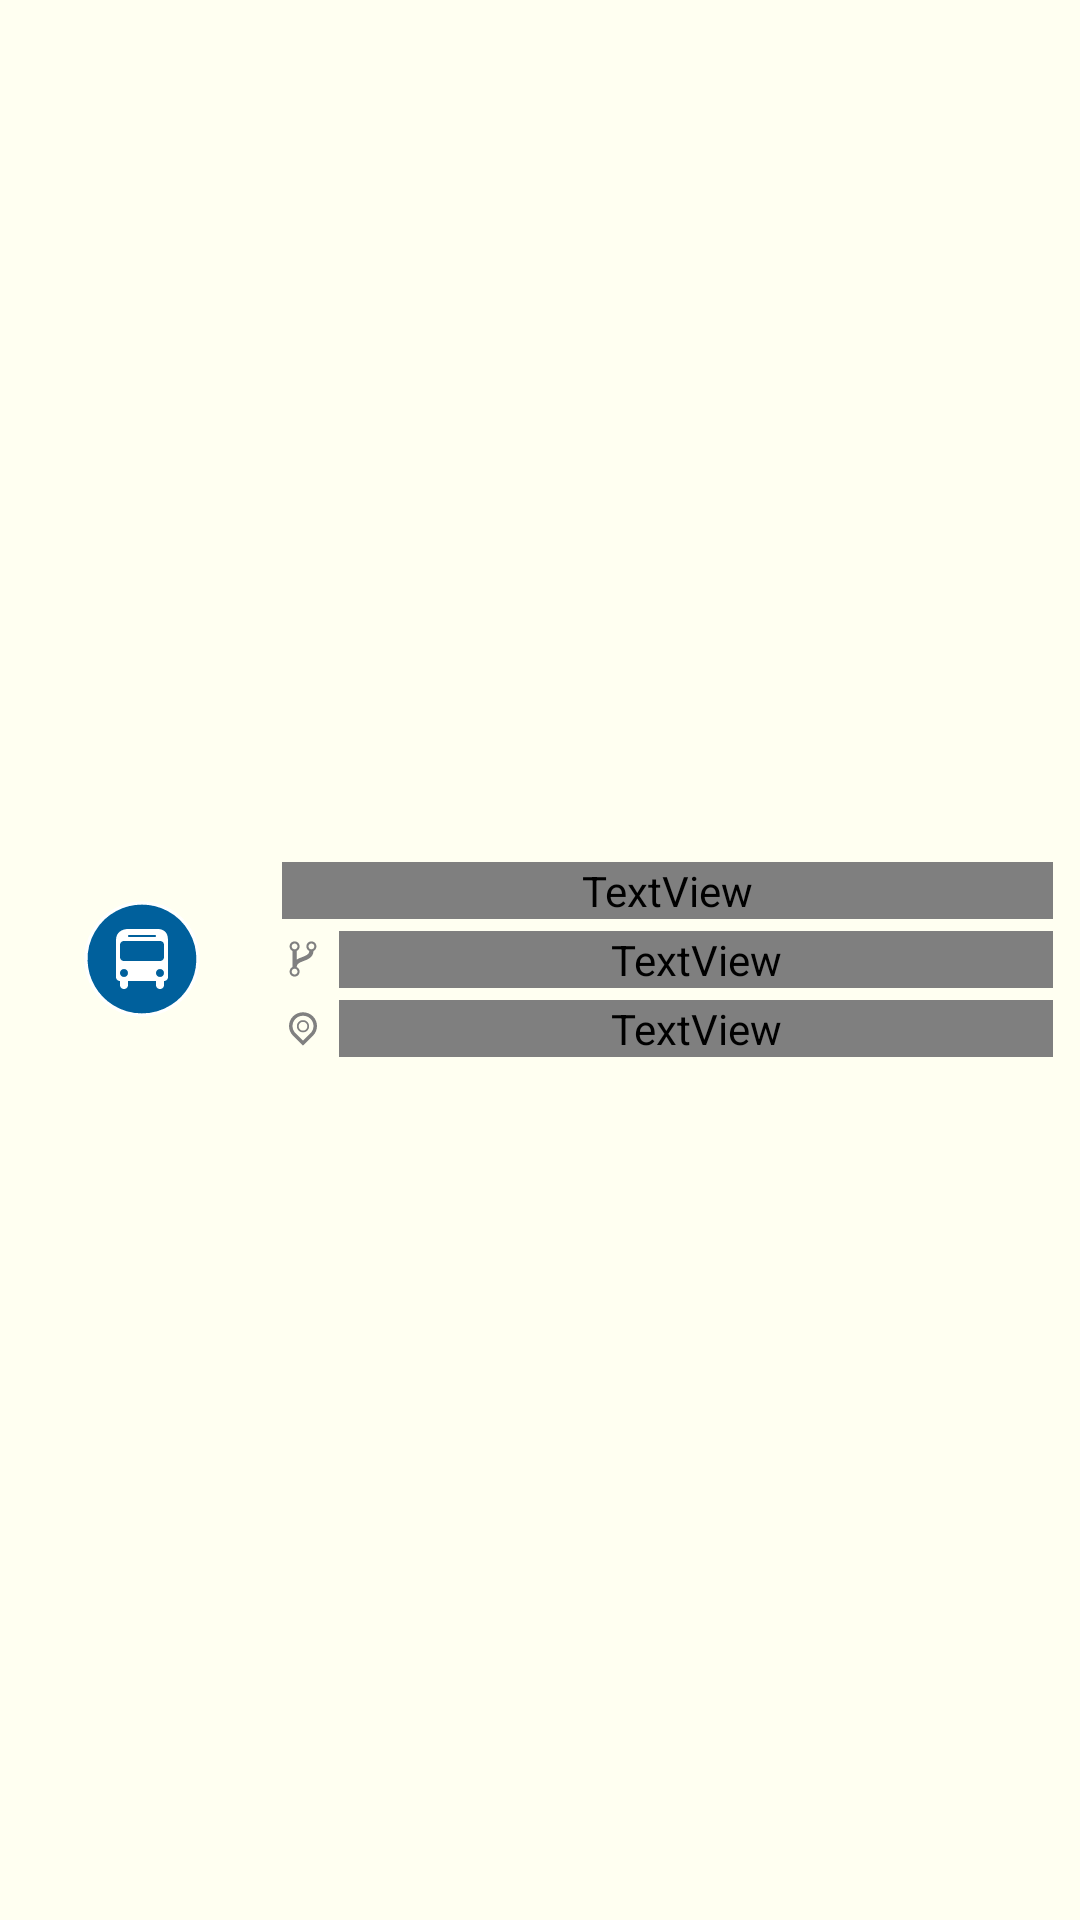

Screen size 1080x1920. Icon name, then its box in pixels as Rect(x1, y1, x2, y2):
bus stop: Rect(87, 904, 197, 1014)
